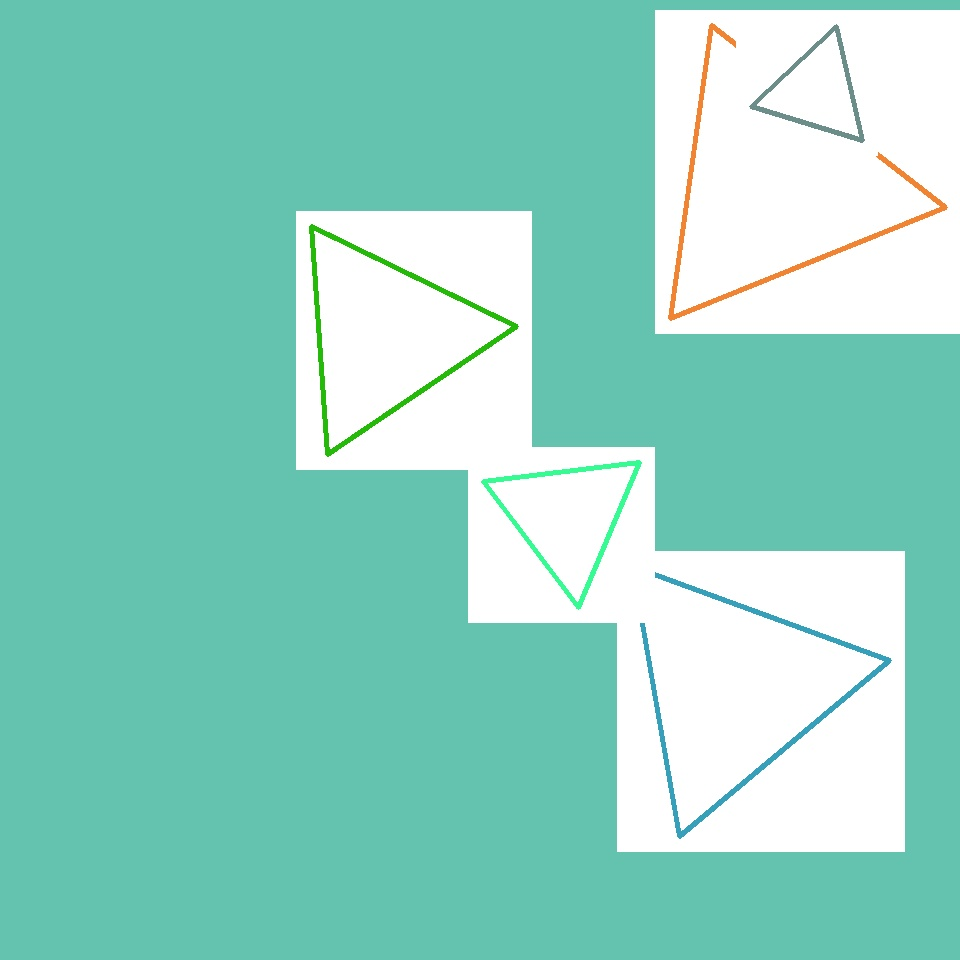circle: (638, 38, 914, 330), (605, 553, 862, 823), (283, 222, 488, 450), (129, 44, 303, 236), (489, 445, 645, 590), (762, 34, 873, 148)
square: (227, 58, 420, 251)
